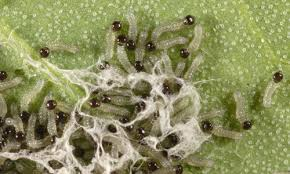Armyworm: (231, 83, 256, 135), (35, 37, 81, 65), (201, 118, 246, 144), (269, 63, 283, 113), (186, 21, 203, 61), (106, 19, 118, 63)
